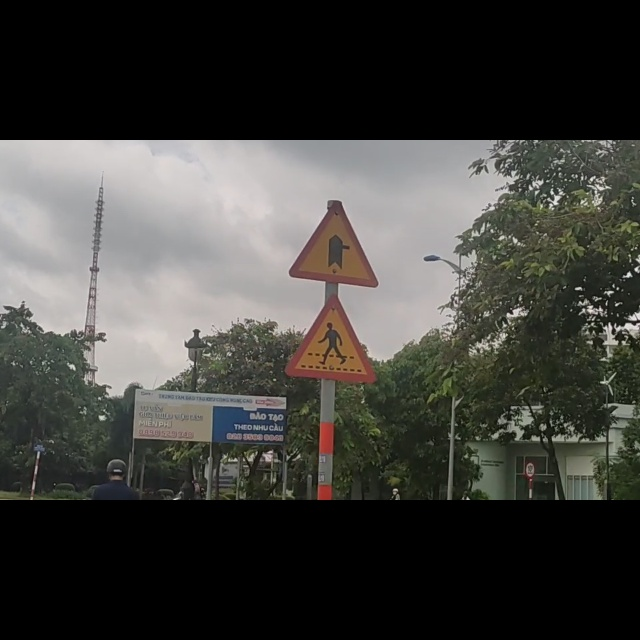bien_nguy_hiem: (285, 276, 380, 434), (288, 109, 379, 261)
